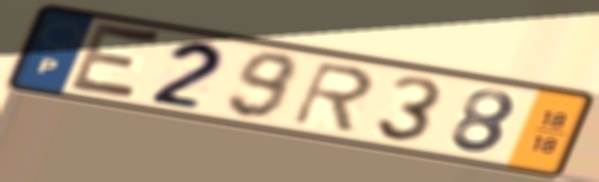2: (142, 37, 229, 114)
3: (372, 76, 447, 144)
8: (450, 88, 519, 155)
9: (224, 50, 302, 121)
E: (63, 18, 167, 105)
R: (288, 59, 378, 135)
